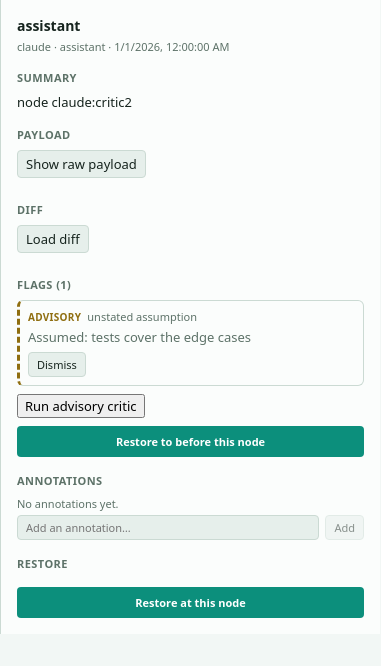
Test: Inspector / advisory critic button › renders advisory styling for advisory flags and shows the daemon error cleanly on failure
Expected: the element with class "flag-row-advisory" is shown, [17,300,364,386]
Expected: the text "Advisory" is shown, [28,310,81,324]
Click the button "Run advisory critic".
click(81, 406)  # box [17,394,144,418]
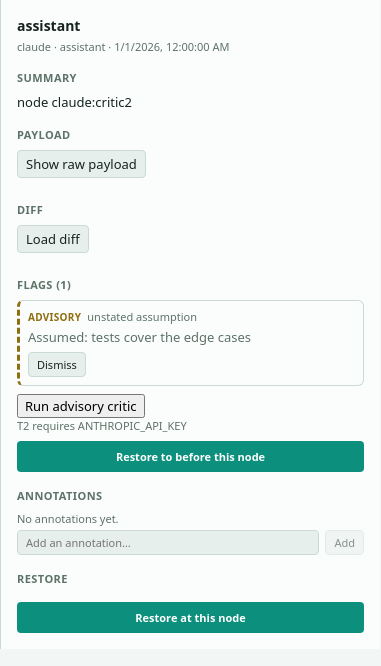
Expected: the text "T2 requires ANTHROPIC_API_KEY" is shown, [17,418,187,433]
